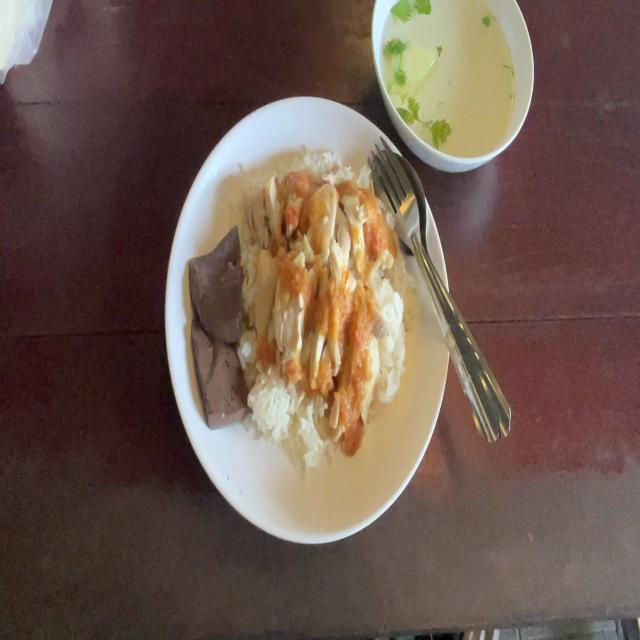chicken_rice: (195, 153, 392, 458)
